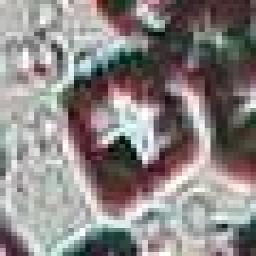crystals: (52, 44, 204, 226)
